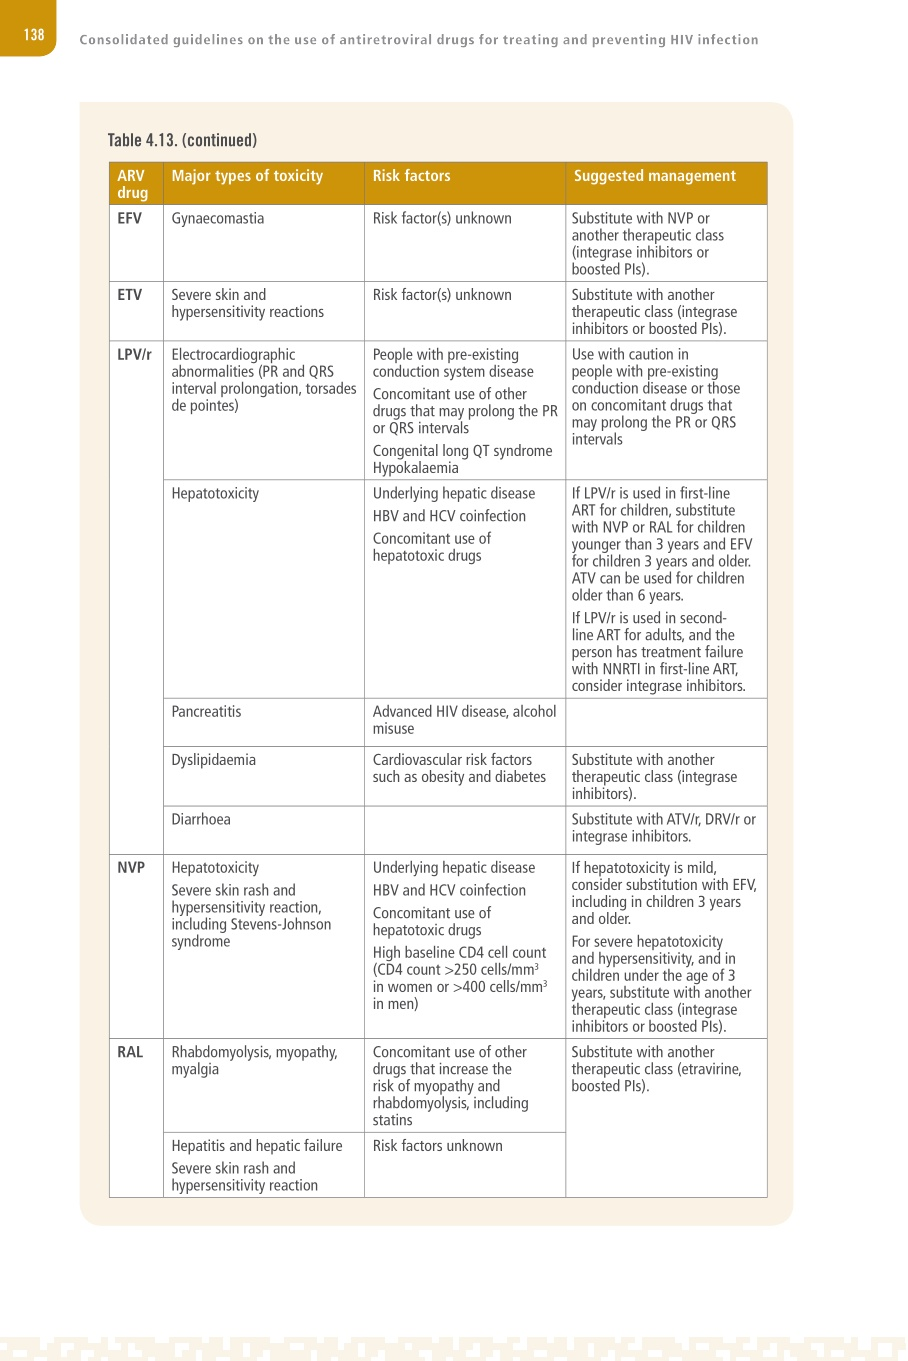merged_cells: (107, 160, 769, 1198)
